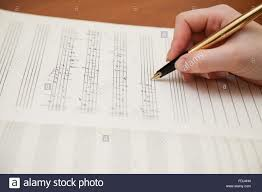pen: (145, 2, 262, 82)
